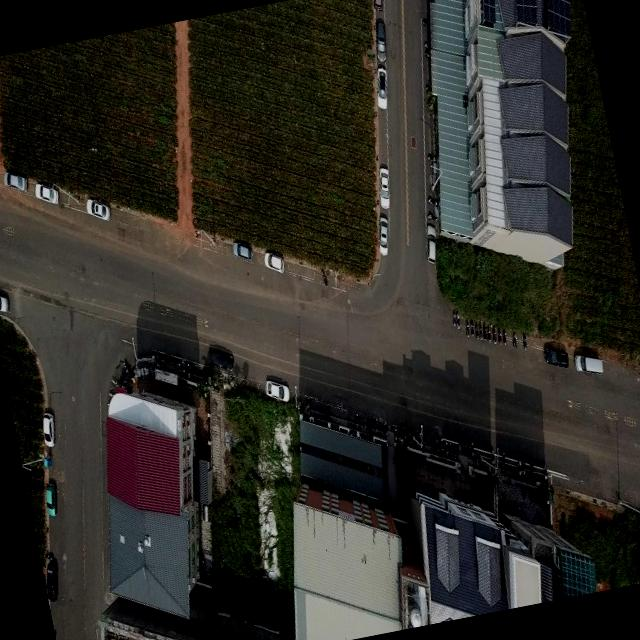bike: (462, 312, 473, 340), (509, 330, 520, 350), (451, 305, 458, 329), (520, 331, 528, 350)
car: (204, 334, 244, 381), (40, 550, 64, 603), (369, 16, 393, 68), (572, 342, 604, 378), (371, 66, 393, 111), (263, 372, 292, 406), (373, 166, 395, 210), (32, 178, 62, 209), (542, 338, 570, 370), (421, 222, 442, 264), (84, 193, 112, 224), (374, 215, 394, 257), (2, 166, 30, 196), (39, 410, 60, 448), (41, 480, 62, 518), (262, 248, 286, 278), (231, 237, 255, 266), (0, 288, 10, 315), (370, 0, 388, 11)
